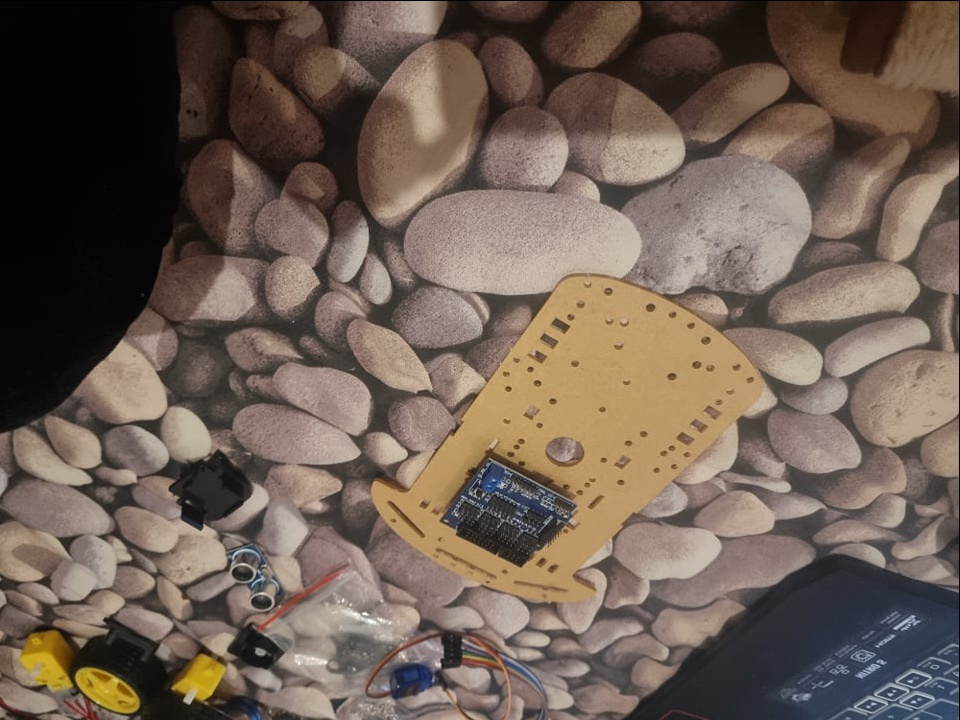5V EXPANSION: (437, 455, 580, 567)
SENSOR: (225, 541, 283, 616)
